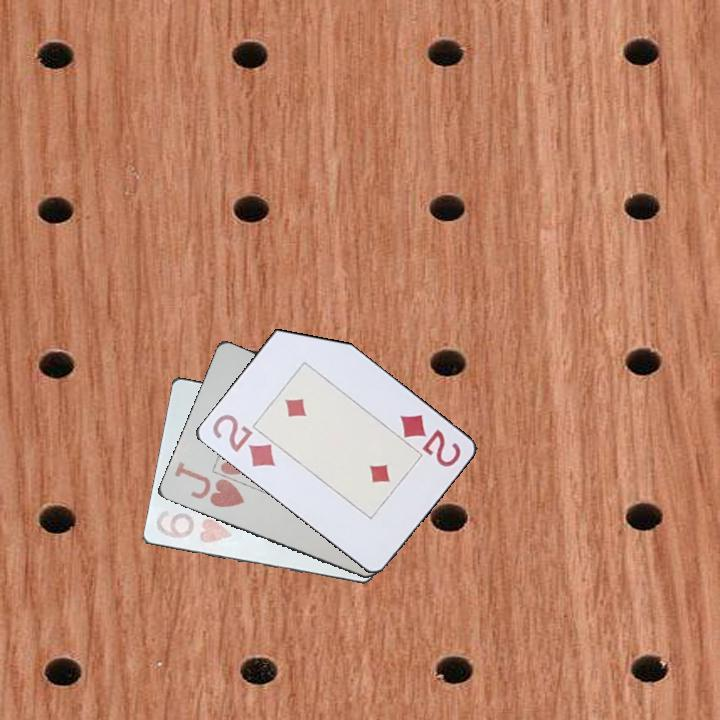2d: (208, 409, 278, 472), (395, 411, 464, 470)
6h: (152, 506, 235, 548)
Jh: (170, 459, 247, 511)
